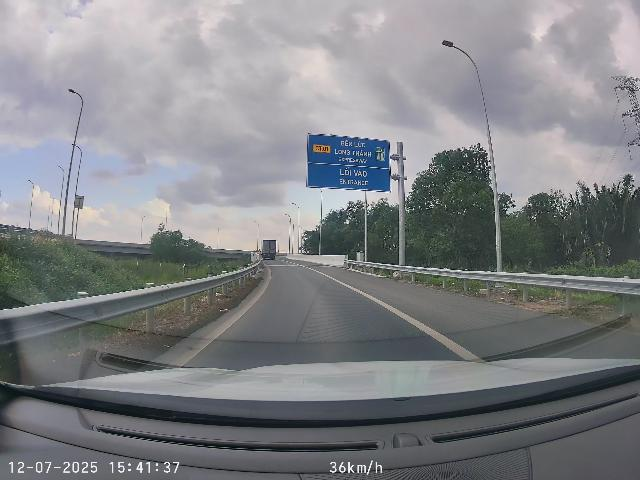437-bat-dau-duong-cao-toc: (375, 146, 385, 162)
